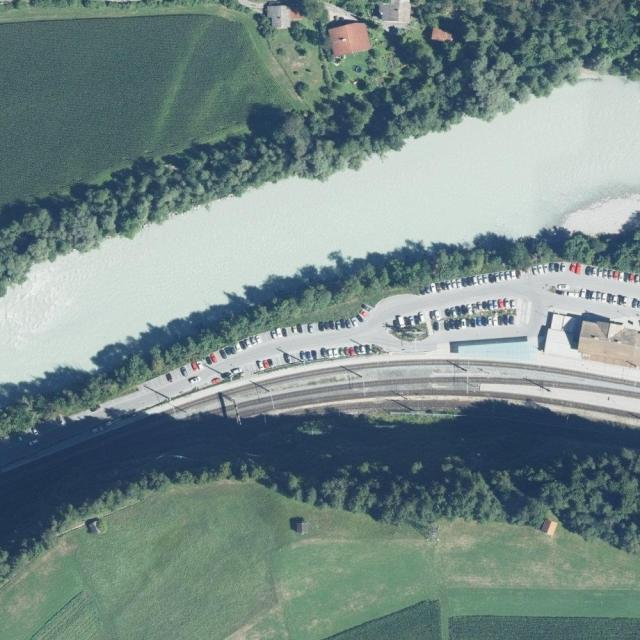agricultural_land: (0, 8, 295, 206), (324, 600, 441, 639)
building: (543, 312, 585, 359), (327, 19, 372, 58), (458, 339, 537, 361), (265, 3, 291, 29), (539, 518, 557, 537), (290, 515, 308, 534), (432, 27, 453, 41), (85, 517, 101, 534)
greenland: (265, 10, 354, 110), (329, 1, 389, 18), (252, 9, 275, 41)
